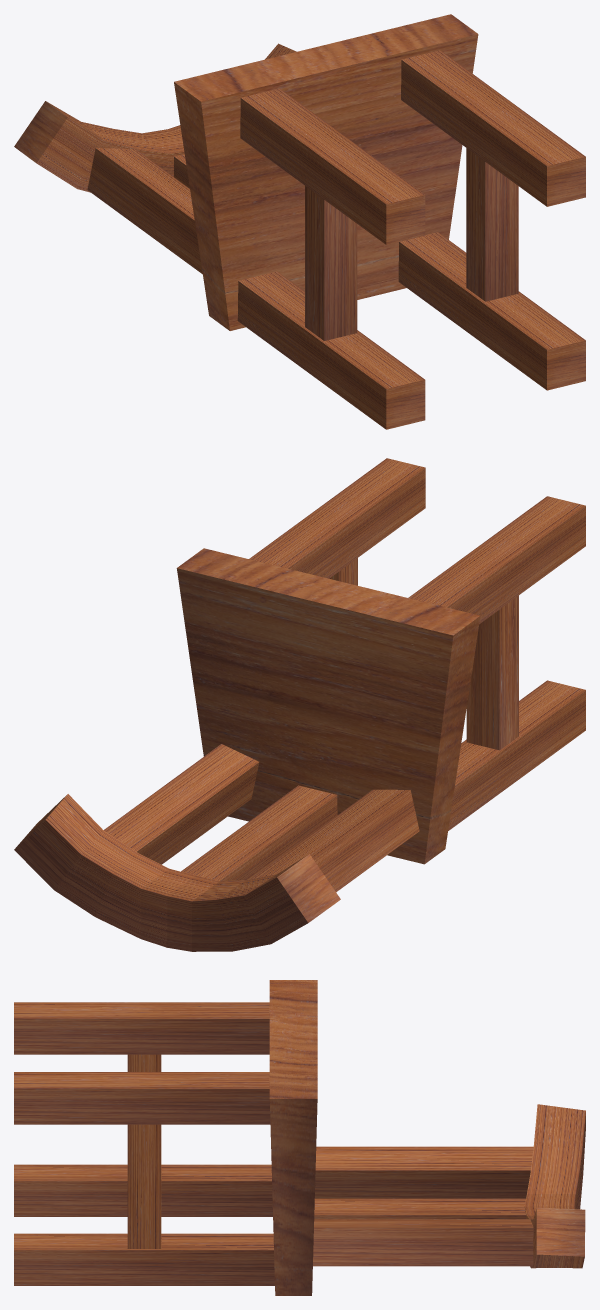
File: Chair.fbx
The picture shows the model from 3 angles, top to bottom: view 1: azimuth 30°, elevation 25°; view 2: azimuth 150°, elevation 25°; view 3: azimuth 270°, elevation 25°; orthographic projection. The views are drawn at different scales.
Parts seen in each view (by area): view 1: Chair; view 2: Chair; view 3: Chair.
Boxes of the visible parts, <box> form: Chair: <box>14,14,585,429</box>; Chair: <box>14,458,585,951</box>; Chair: <box>14,980,585,1295</box>.
Size of the model in its own units: 267 by 201 by 492.
2 materials, 2 textured.
